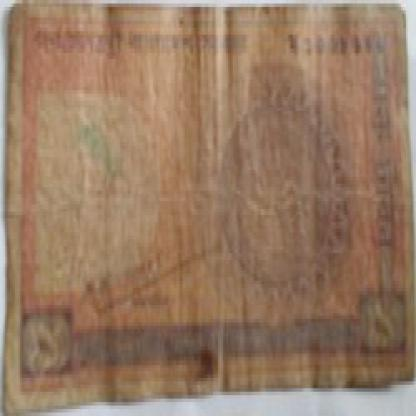One Taka: (25, 312, 68, 374), (364, 298, 403, 357)
